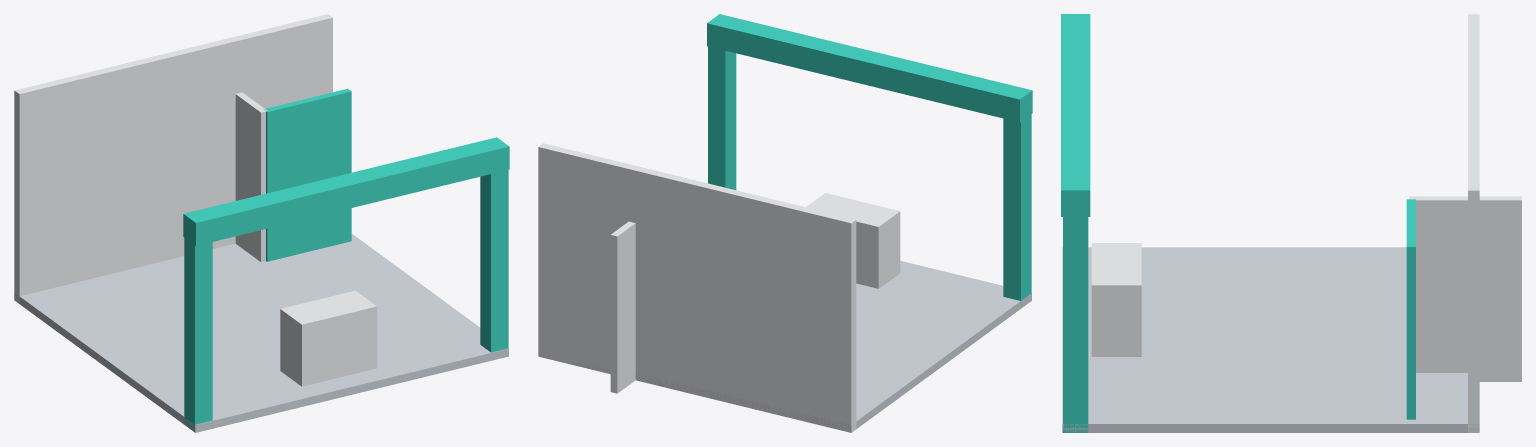
3 renders of one model, left to right at view 1: azimuth 30°, elevation 25°; view 2: azimuth 150°, elevation 25°; view 3: azimuth 270°, elevation 25°, orthographic. The views are drawn at different scales.
Visible parts, largest first — view 1: Exhibition Booth Concept; view 2: Exhibition Booth Concept; view 3: Exhibition Booth Concept.
Part boxes in pixels (left/top/right/bottom): Exhibition Booth Concept: left=14, top=14, right=509, bottom=432; Exhibition Booth Concept: left=538, top=14, right=1032, bottom=432; Exhibition Booth Concept: left=1061, top=14, right=1521, bottom=432.
Bounding box in the file's own units: 5 × 3.2 × 5.52.
